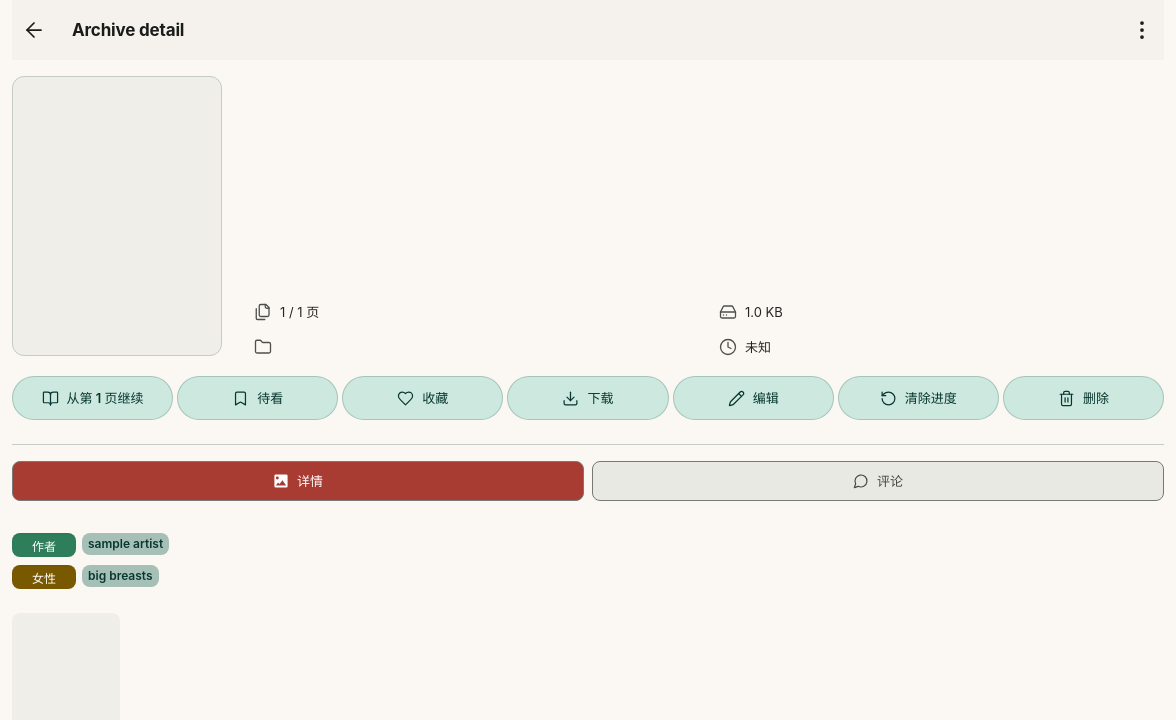
Test: archive detail route › clears first-page progress from the configured surface (toolbar=true, pages=1)
Expected: the heading "Archive detail" is shown, [72,20,184,40]
Expected: the button with aria-label "清除阅读进度" is shown, [838,376,999,420]
Click the button named "档案菜单" at (1142, 30), box [1120,8,1164,52]
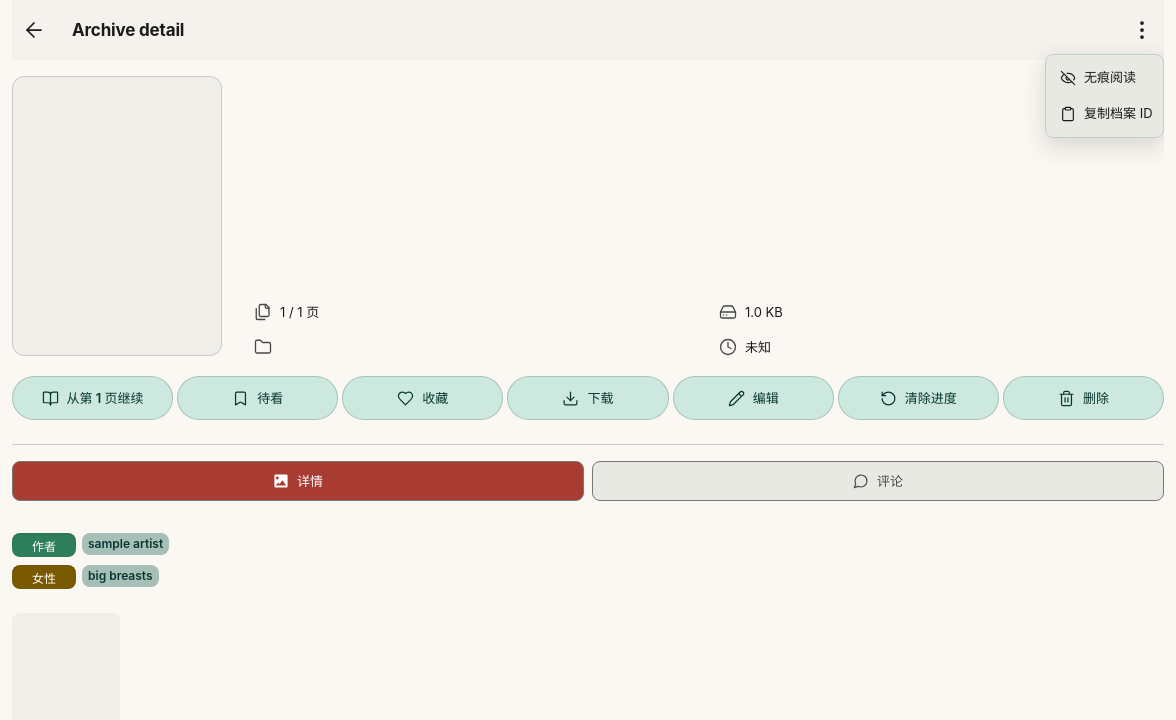
Expected: the menu item "清除阅读进度" is not shown
Result: the menu item "无痕阅读" is shown at [1060,69,1136,86]
Press Escape in the menu, box [1045,54,1164,138]
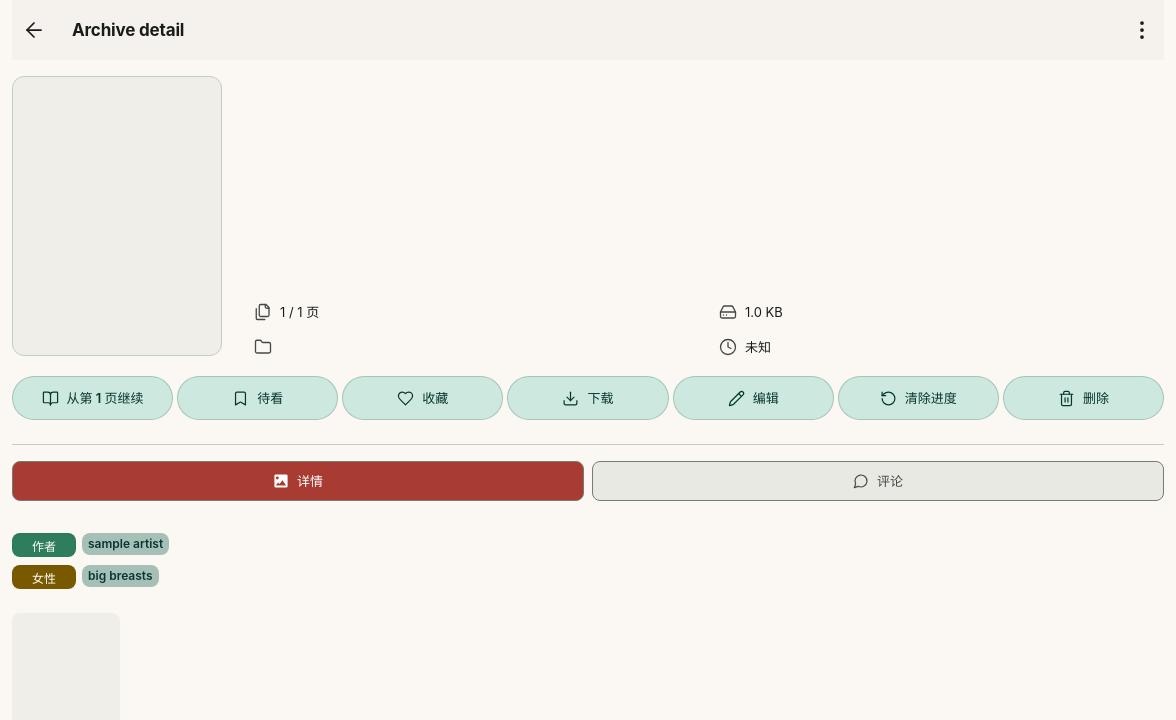
Click the button with aria-label "清除阅读进度" at (918, 398), box [838,376,999,420]
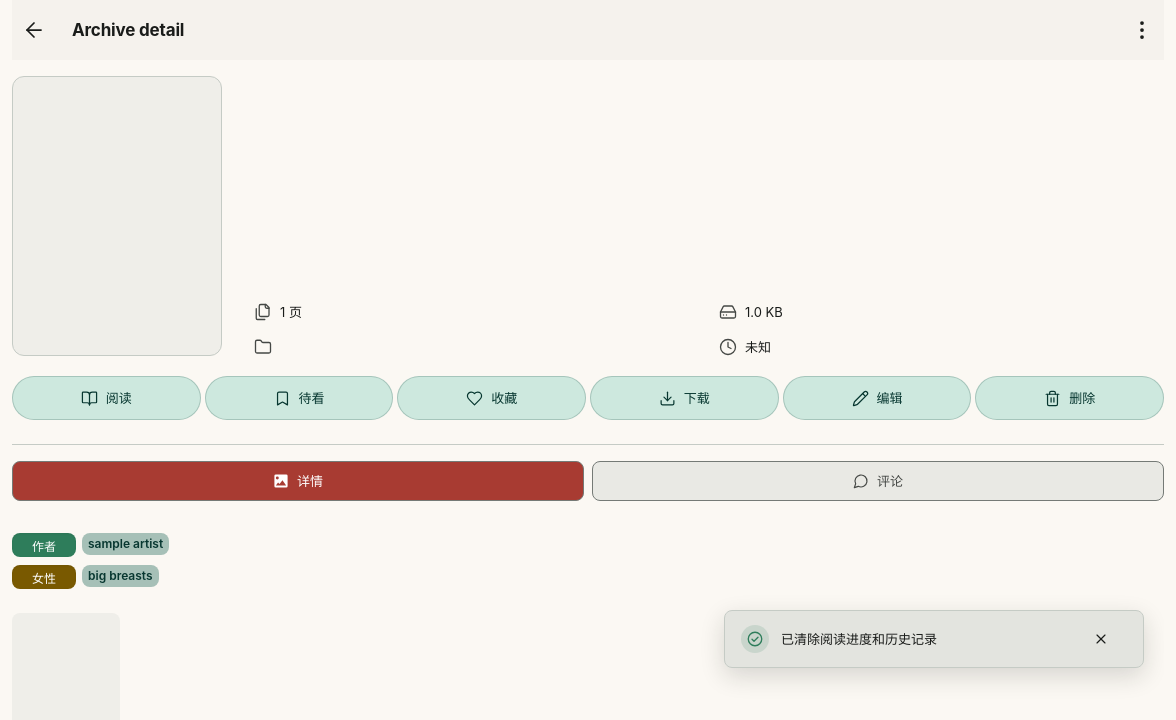
Expected: the text "1 页" is shown, [280,304,302,320]
Result: the text "已清除阅读进度和历史记录" is shown at [781,631,937,647]
